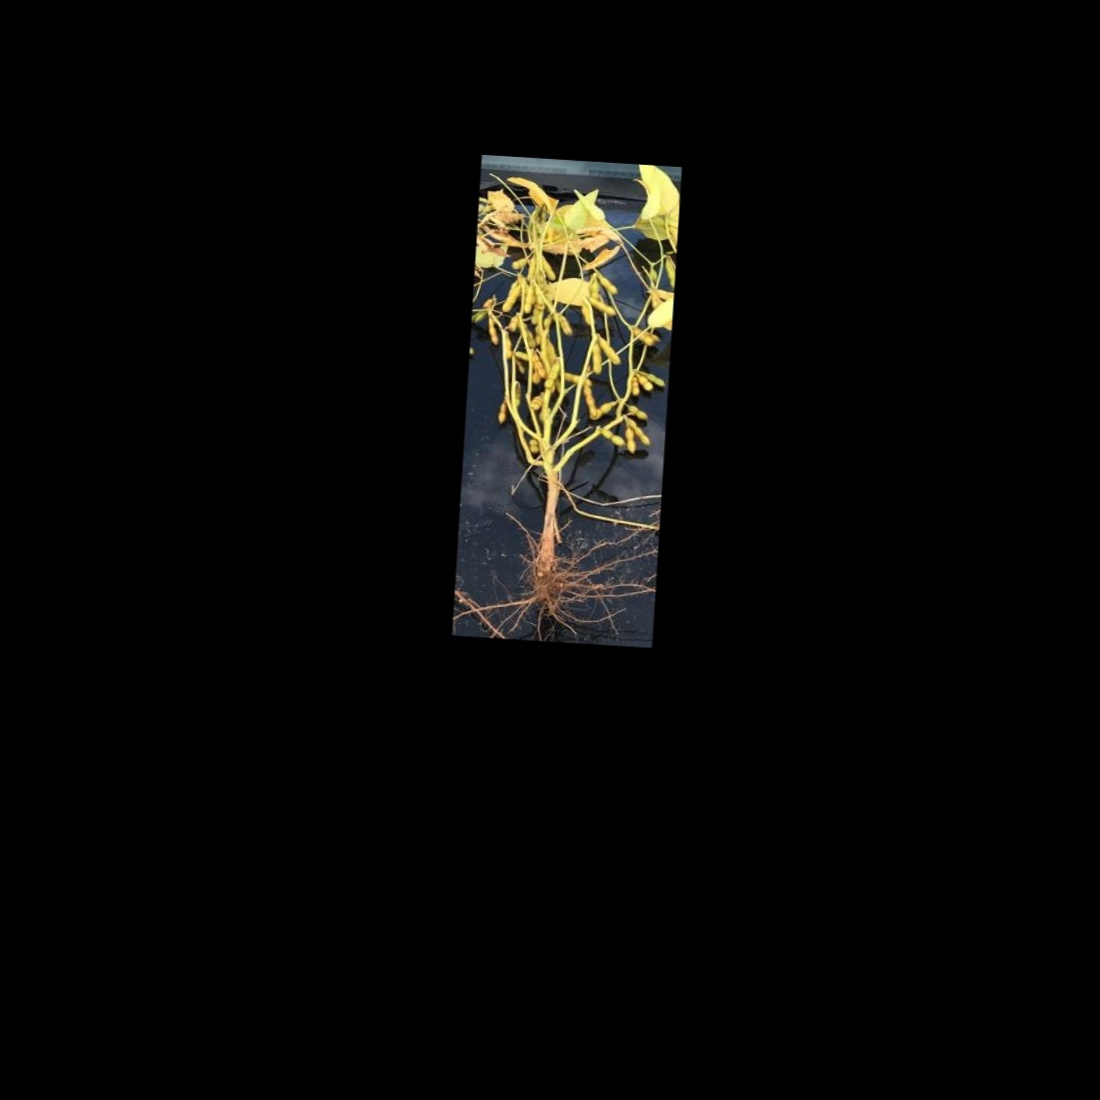pod: (578, 382, 600, 420), (499, 286, 522, 318), (559, 368, 594, 388), (586, 341, 604, 376), (595, 427, 625, 447), (595, 273, 620, 294), (578, 300, 595, 329), (620, 425, 637, 453), (555, 314, 575, 337), (625, 403, 650, 421), (495, 398, 508, 428), (509, 255, 528, 272), (627, 374, 639, 397)
soy: (457, 164, 671, 625)
